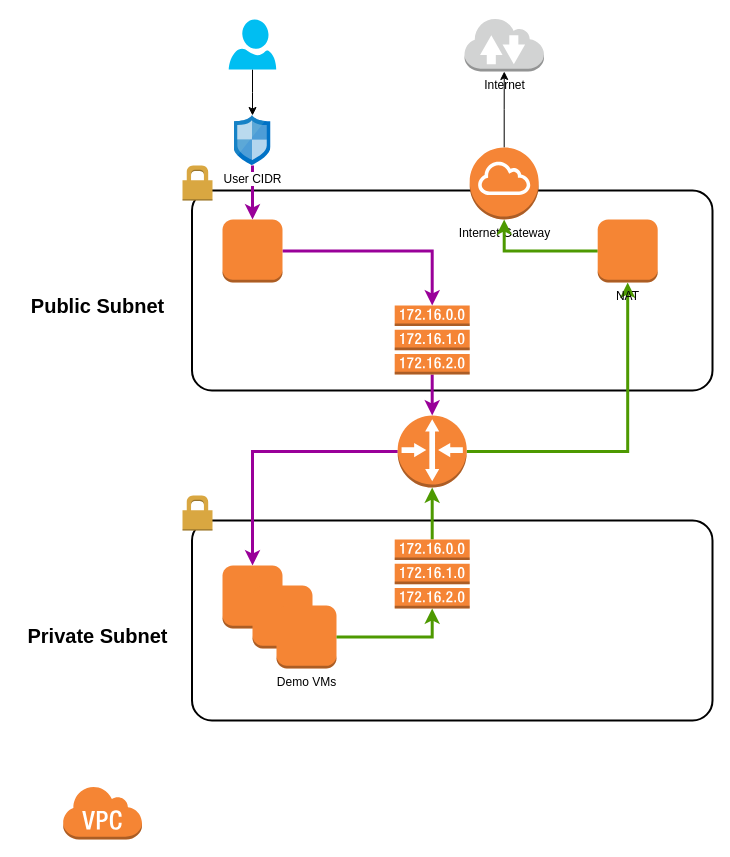
The diagram is 730 pixels wide and 857 high, and some of its shapes have lost their labels. The shapes that lost their labels are listed below. From the top down, each one's centre as x and y in pixels, then its label:
point (252, 44): User
point (252, 250): Bastion
